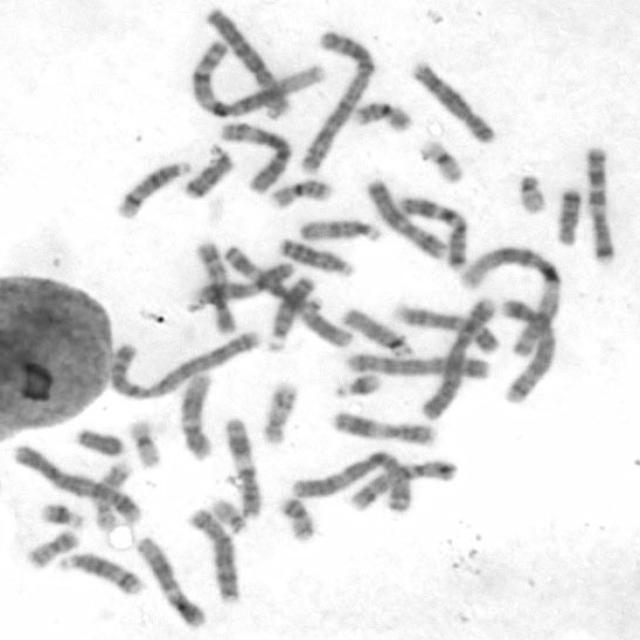A1: (454, 240, 563, 358), (184, 34, 326, 120)
A2: (101, 326, 262, 402), (296, 26, 376, 175)
A3: (218, 239, 355, 349), (286, 448, 415, 518)
B4: (9, 440, 144, 526), (416, 292, 500, 422)
B5: (496, 293, 557, 405), (340, 349, 494, 380)
C10: (348, 460, 459, 511), (192, 237, 238, 336)
C11: (326, 407, 438, 448), (221, 413, 263, 520)
C12: (132, 533, 208, 630), (174, 370, 216, 462)
C6: (202, 6, 292, 117), (215, 118, 293, 194)
C7: (396, 194, 469, 272), (582, 141, 616, 266)
C8: (408, 58, 498, 146), (183, 504, 243, 604)
C9: (389, 298, 502, 356), (182, 256, 296, 312)
D13: (264, 273, 319, 354), (276, 233, 355, 278)
D14: (112, 158, 192, 219), (55, 549, 146, 597)
D15: (338, 302, 416, 358), (296, 215, 384, 244)
E16: (265, 175, 334, 211), (352, 98, 414, 134)
E17: (89, 458, 134, 534), (257, 377, 300, 446)
E18: (180, 146, 236, 201), (552, 185, 583, 247)
F19: (415, 135, 467, 186), (124, 416, 163, 468)
F20: (22, 526, 82, 570), (277, 493, 316, 543)
G21: (329, 368, 382, 399), (38, 498, 86, 530)
G22: (208, 494, 249, 535), (513, 170, 549, 216)
X: (362, 174, 446, 260)
Y: (71, 423, 126, 459)
